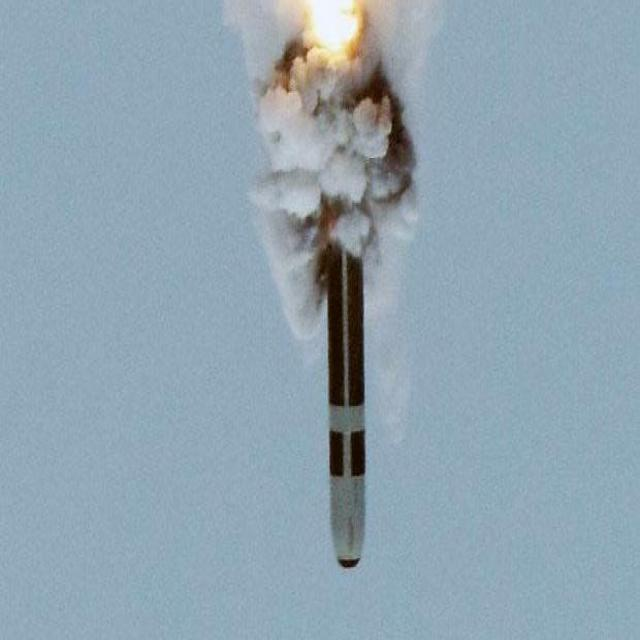missile: (302, 172, 392, 567)
